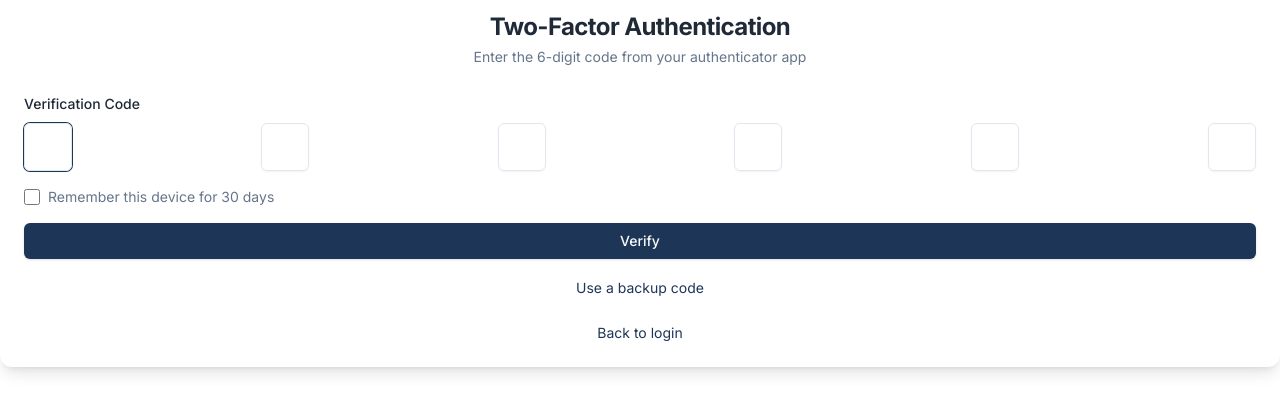
Test: VerifyMfaPage › should toggle to backup code input
Click the button "Use a backup code": (640, 288) left=576, top=278, right=704, bottom=298
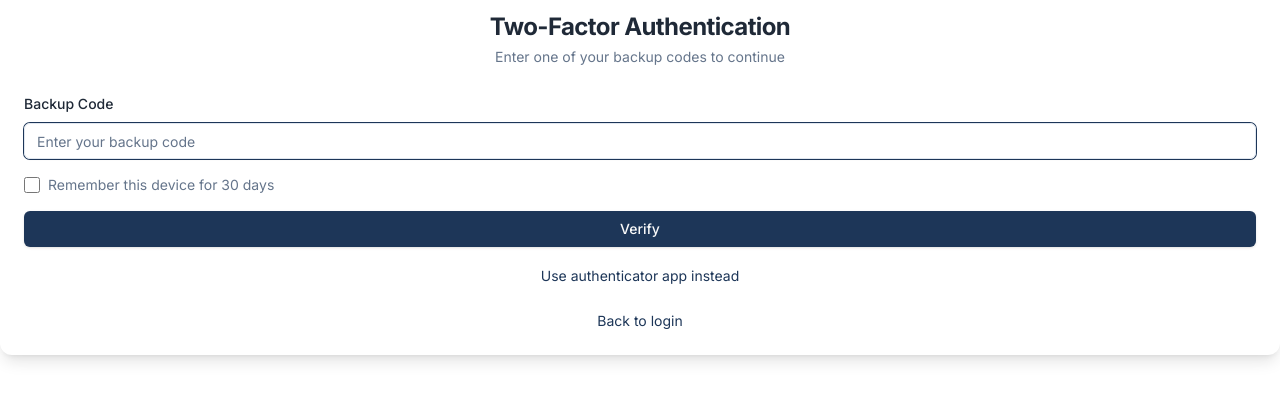
Expected: the text "Enter one of your backup codes to continue" is shown, left=495, top=48, right=785, bottom=65
Expected: the field labelled "Backup Code" is shown, left=24, top=123, right=1256, bottom=159
Expected: the button "Use authenticator app instead" is shown, left=541, top=266, right=739, bottom=286
